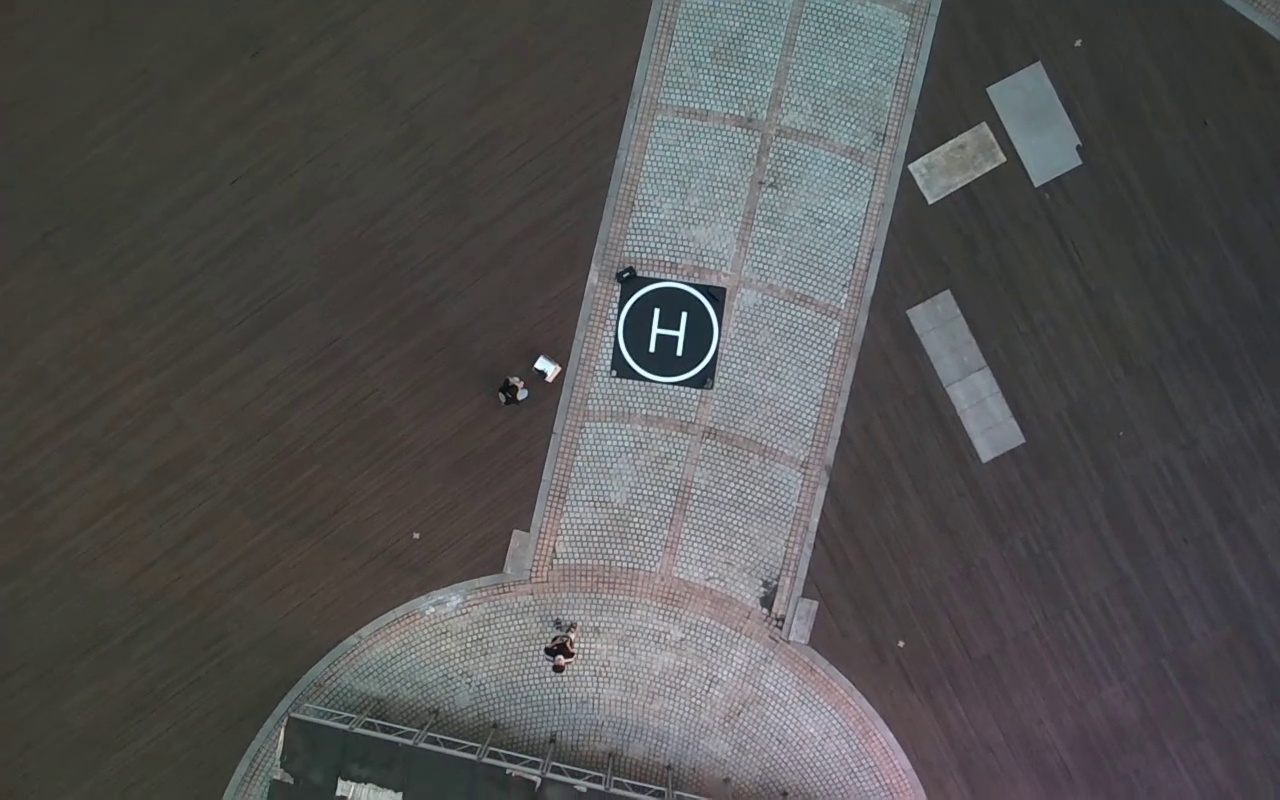H: (646, 308, 688, 356)
heliport: (618, 279, 720, 383)
